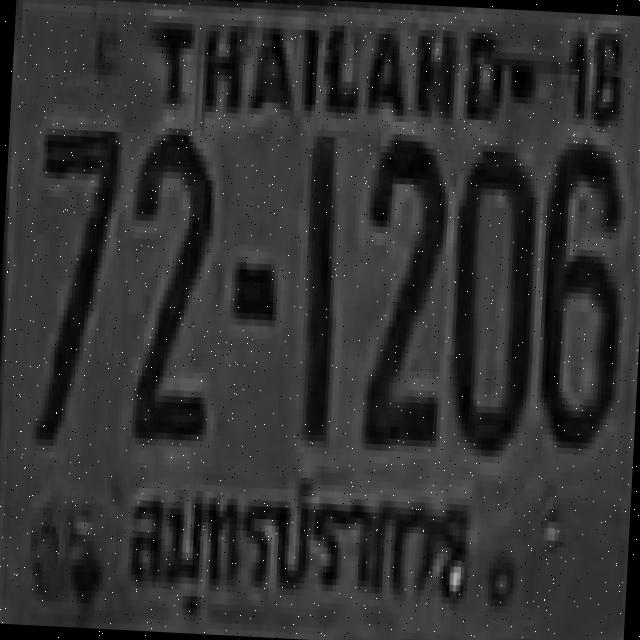0: (442, 141, 536, 449)
1: (294, 139, 338, 439)
2: (124, 127, 218, 441), (356, 136, 450, 444)
6: (532, 136, 626, 444)
7: (25, 121, 119, 442)
SamutPrakan: (121, 469, 488, 626)
